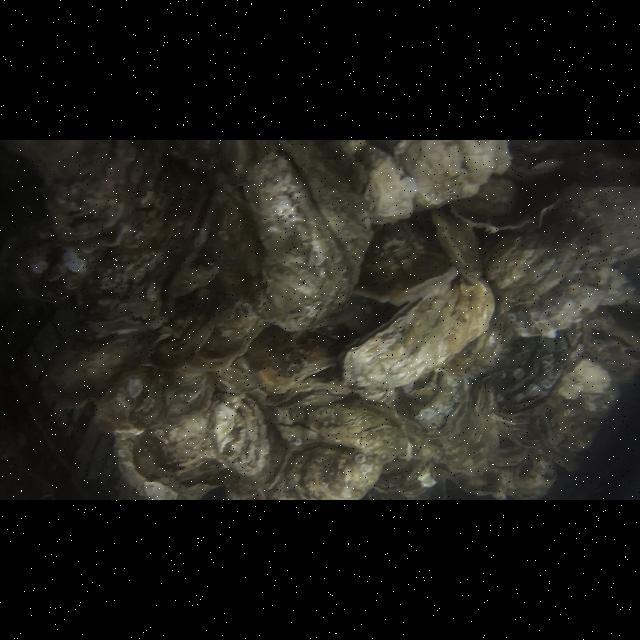Oyster-Closed: (68, 160, 216, 332), (244, 140, 376, 328), (339, 274, 495, 398), (484, 184, 640, 306), (9, 140, 143, 254), (476, 319, 584, 423), (506, 263, 640, 337), (352, 218, 462, 304), (39, 328, 155, 409), (392, 140, 512, 210), (8, 218, 104, 302), (329, 140, 413, 220), (304, 401, 408, 463), (424, 391, 498, 475), (190, 298, 266, 376), (92, 364, 168, 438), (292, 446, 390, 500), (212, 392, 270, 480), (448, 174, 534, 232), (134, 414, 216, 474), (256, 336, 340, 394), (150, 302, 218, 366), (429, 206, 483, 278), (158, 361, 216, 423)
Oyster-Open: (270, 376, 354, 414)
